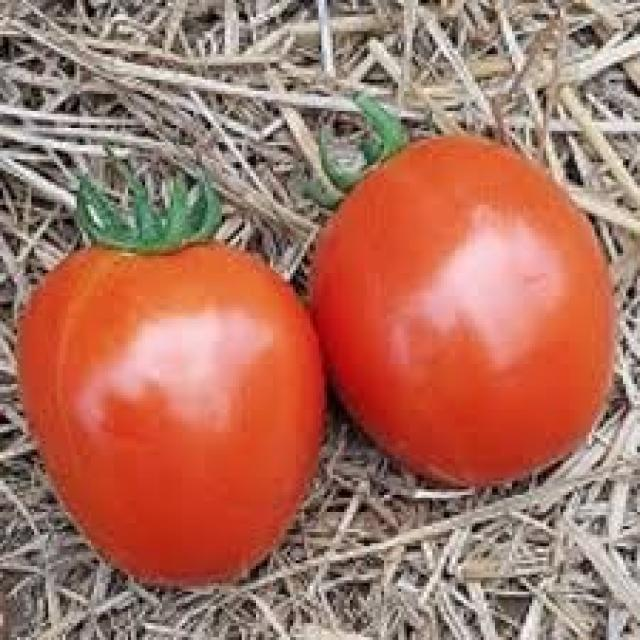Fresh_tomato: (39, 198, 321, 597), (328, 99, 602, 472)
